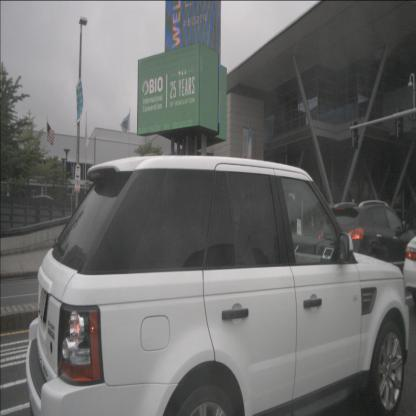vehicle-car: (25, 155, 410, 415), (317, 202, 416, 294)
